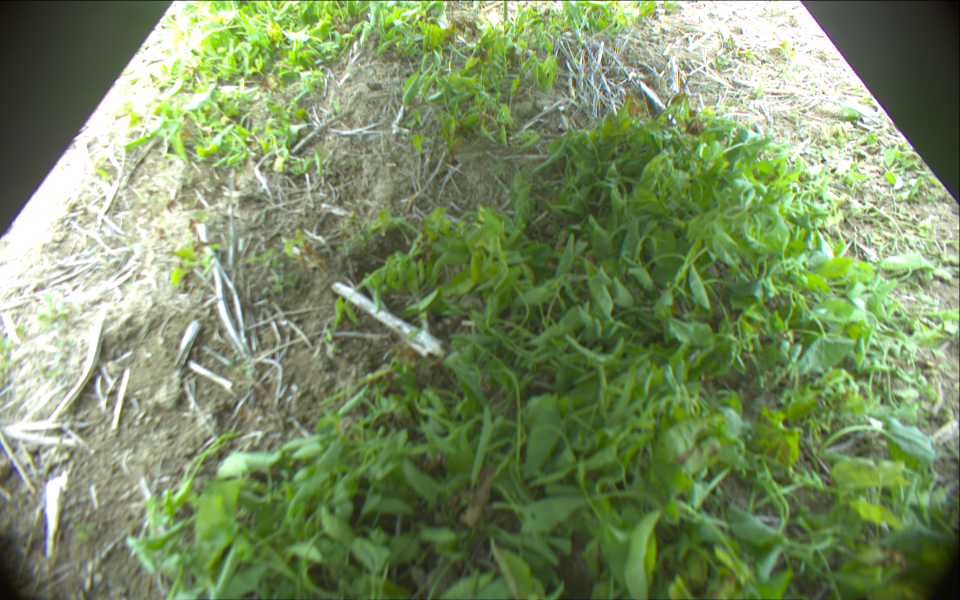aspa: (502, 1, 510, 25)
